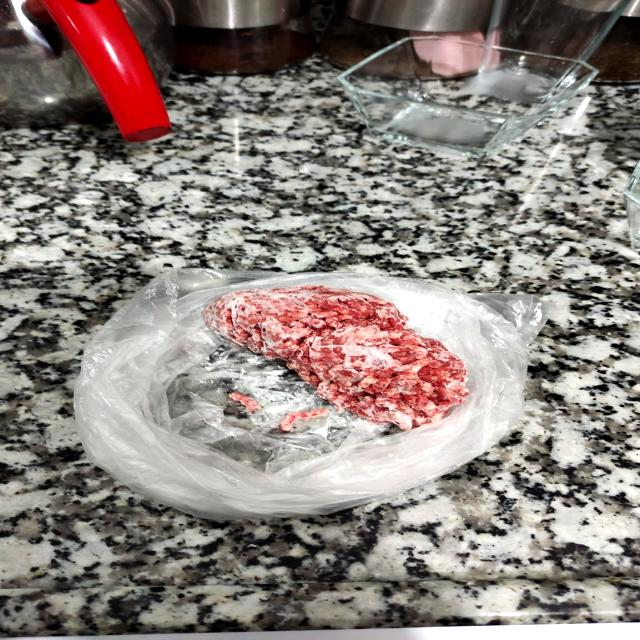ground meat: (188, 273, 484, 435)
